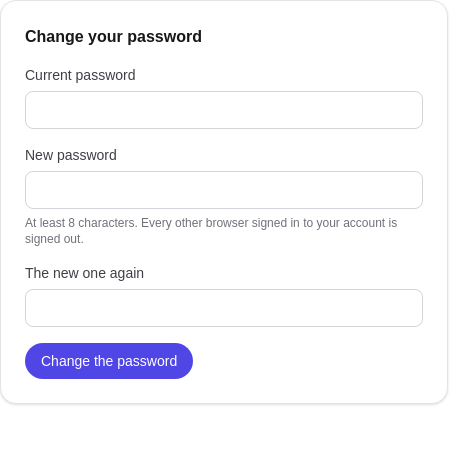
changing the password (ACCT-004) › asks again when the two new ones differ, and sends nothing
The width and height of the screenshot is (465, 474).
In the password field labelled "Current password": (224, 110) [25,91,423,129], type "my old password"
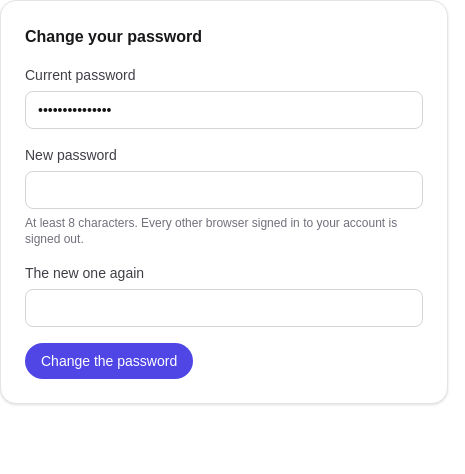
In the password field labelled "New password": (224, 190) [25,171,423,209], type "my new long password"
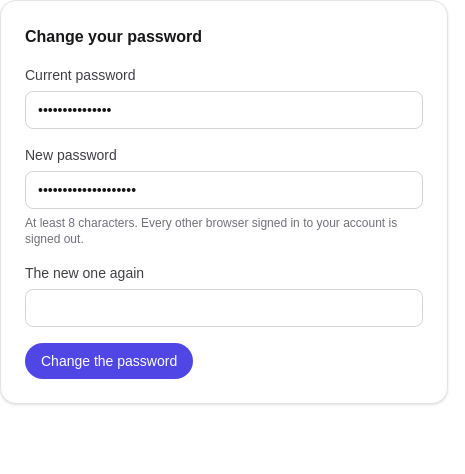
In the password field labelled "The new one again": (224, 308) [25,289,423,327], type "my new long passwort"
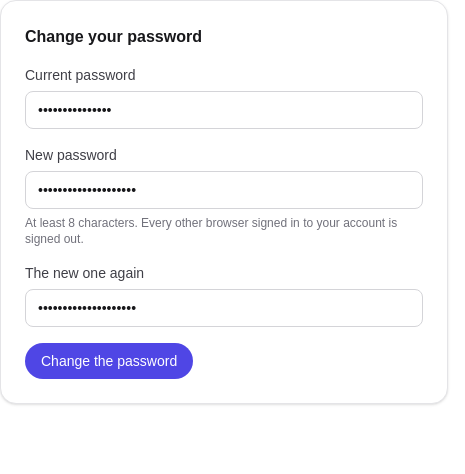
Click the button "Change the password": (109, 361) [25,343,193,379]
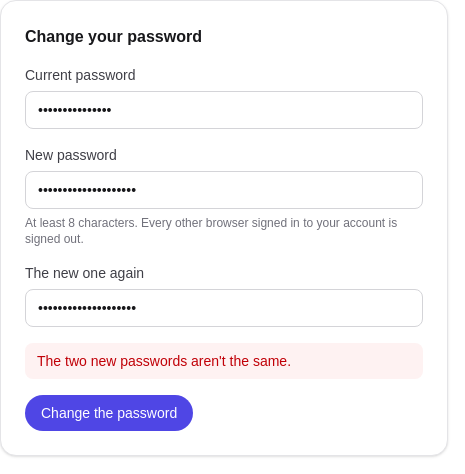
Result: the message reads "The two new passwords aren't the same." at [37,353,291,369]
